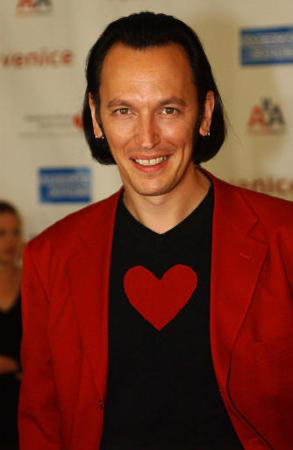Face: (98, 59, 194, 202)
